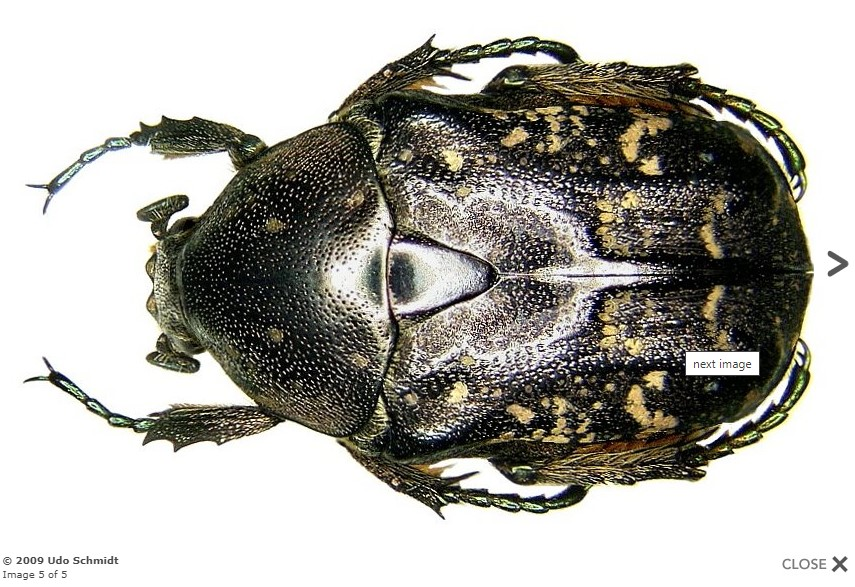Protaetia _orientalis: (22, 17, 823, 511)
